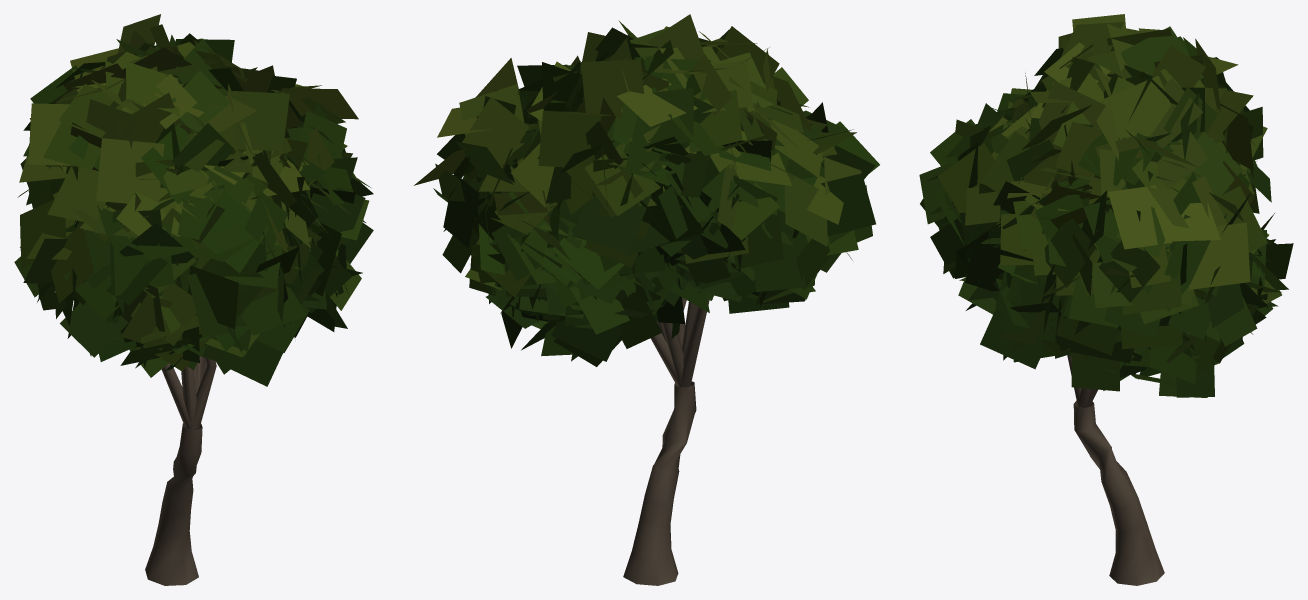
Rendered from PLN_Broadleaf_Tall.fbx.
3 views of the same model, side by side, from view 1: azimuth 30°, elevation 25°; view 2: azimuth 150°, elevation 25°; view 3: azimuth 270°, elevation 25° (orthographic). The views are drawn at different scales.
Visible parts, largest first — view 1: PLN_Broadleaf_Tall; view 2: PLN_Broadleaf_Tall; view 3: PLN_Broadleaf_Tall.
Part boxes in pixels (left/top/right/bottom): PLN_Broadleaf_Tall: left=14, top=14, right=373, bottom=585; PLN_Broadleaf_Tall: left=414, top=14, right=879, bottom=585; PLN_Broadleaf_Tall: left=919, top=14, right=1293, bottom=585.
Bounding box in the file's own units: 7.46 × 10.31 × 6.46.
